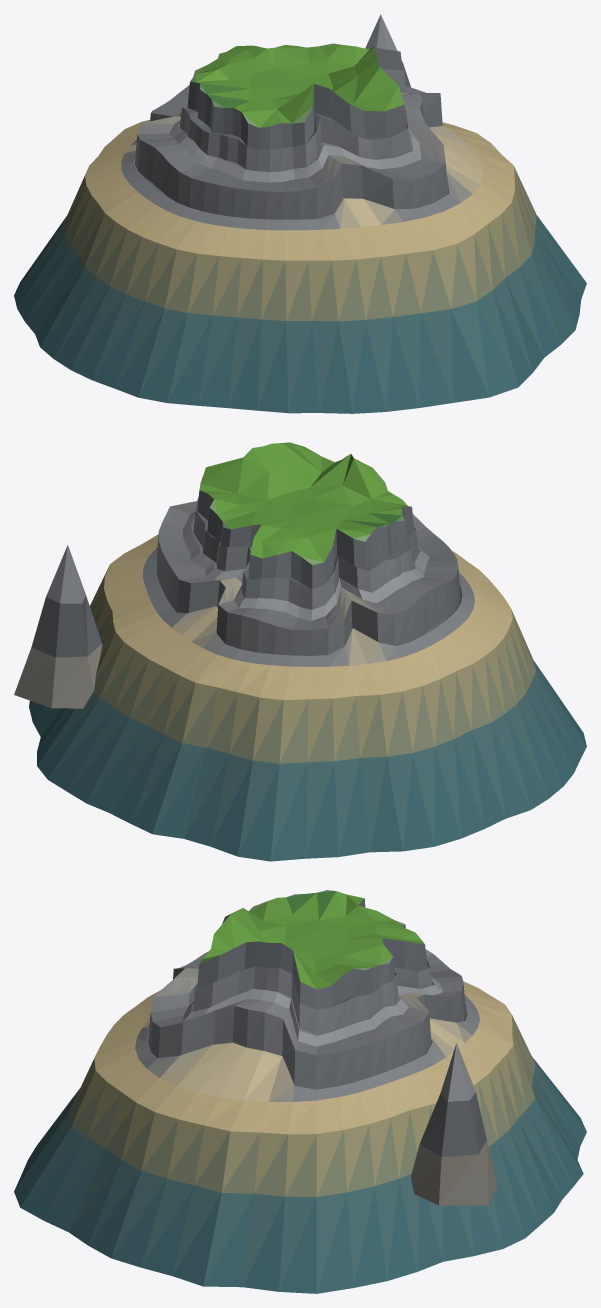
Rendered from islet_02.glb.
3 renders of one model, top to bottom at view 1: azimuth 30°, elevation 25°; view 2: azimuth 150°, elevation 25°; view 3: azimuth 270°, elevation 25°, orthographic. The views are drawn at different scales.
Visible parts, largest first — view 1: islet_02; view 2: islet_02; view 3: islet_02.
Boxes of the visible parts, box(x1,y1,x2,y2) form: islet_02: box(14, 14, 586, 413); islet_02: box(14, 442, 586, 861); islet_02: box(14, 890, 586, 1293).
Size of the model in its own units: 18.69 by 9.62 by 18.44.
